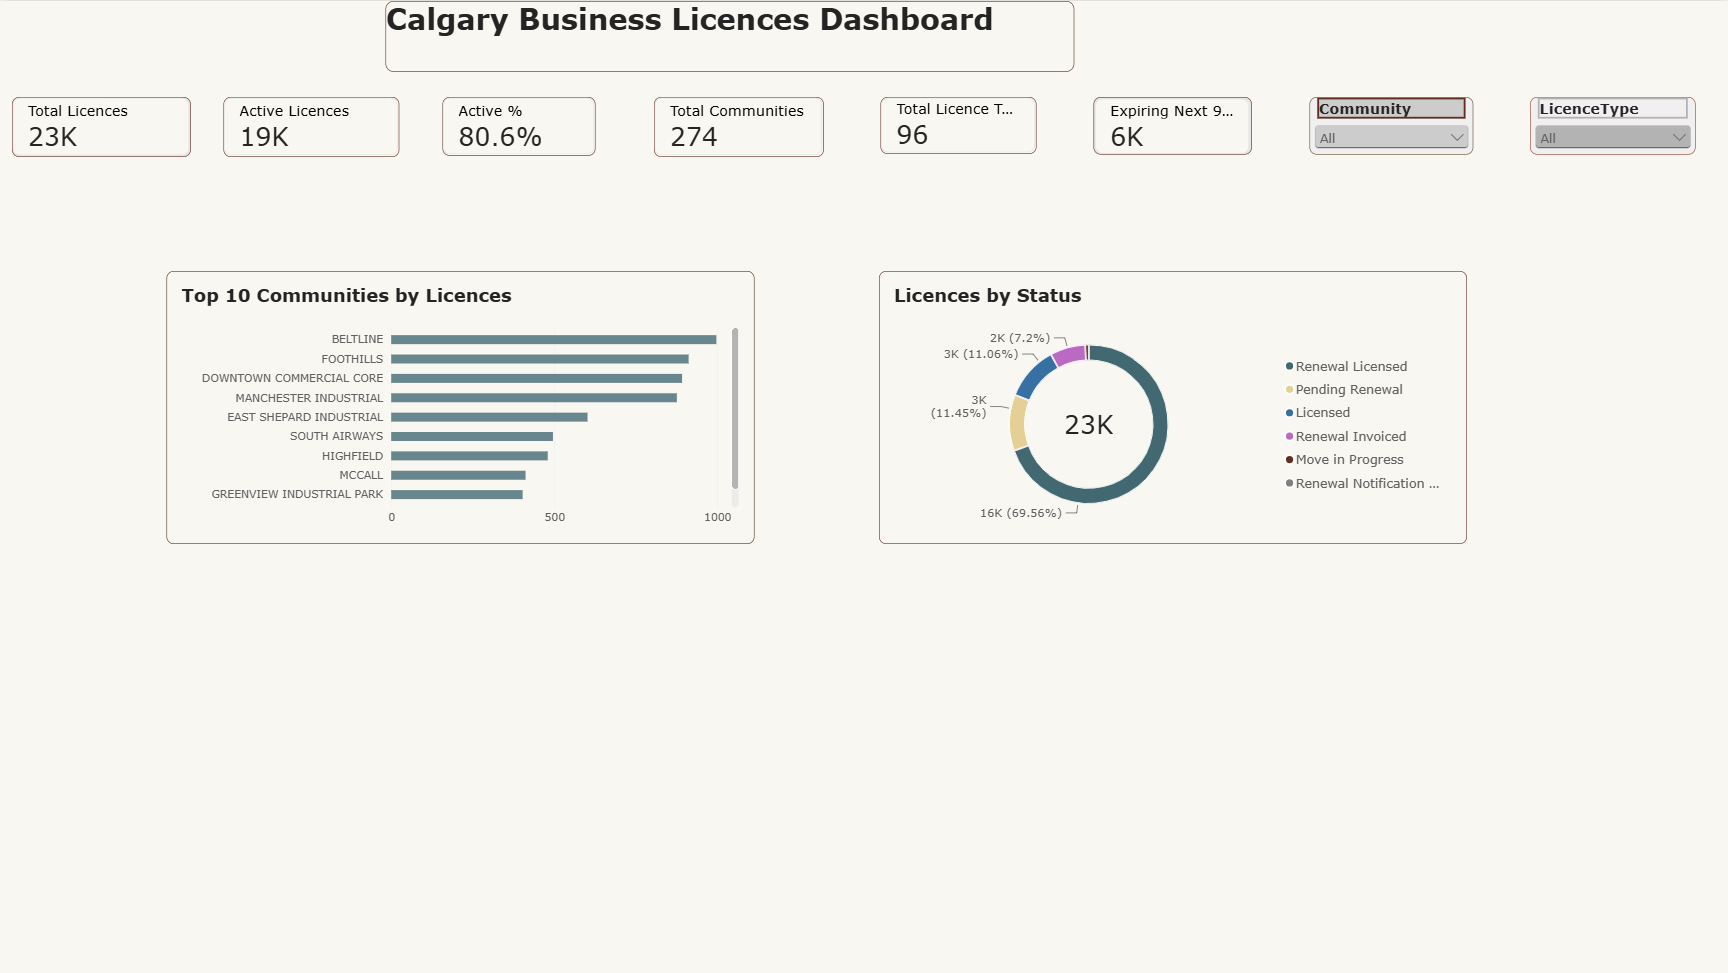

What the dashboard file says about the page in this screenshot:
{"tool":"powerbi","page":{"name":"Overview","canvas":[1920,1080],"ordinal":0},"visuals":[{"type":"cardVisual","fields":{"Data":["_Measures.Total Licences"]},"box":[13.3,106.7,198.3,66.7],"z":0},{"type":"cardVisual","fields":{"Data":["_Measures.Active Licences"]},"box":[248.3,106.7,195,66.7],"z":1000},{"type":"cardVisual","fields":{"Data":["_Measures.Active %"]},"box":[492.3,106.7,170,65],"z":2000},{"type":"cardVisual","fields":{"Data":["_Measures.Total Communities"]},"box":[725.9,106.7,188.3,66.7],"z":3000},{"type":"cardVisual","fields":{"Data":["_Measures.Total Licence Types"]},"box":[977.9,106.7,173.3,63.3],"z":4000},{"type":"cardVisual","fields":{"Data":["_Measures.Expiring Next 90 Days"]},"box":[1214.8,106.7,175.7,64.3],"z":5000},{"type":"clusteredBarChart","title":"Top 10 Communities by Licences","fields":{"Category":["BusinessLicences.COMDISTNM"],"Y":["_Measures.Total Licences"]},"box":[185.7,300,653.3,303.2],"z":6000},{"type":"donutChart","title":"Licences by Status","fields":{"Category":["BusinessLicences.JOBSTATUSDESC"],"Y":["_Measures.Total Licences"]},"box":[976.7,300,653,303],"z":7000},{"type":"slicer","fields":{"Values":["BusinessLicences.COMDISTNM"]},"box":[1454.2,106.7,182.2,64.1],"z":7001},{"type":"slicer","fields":{"Values":["vw_LicenceTypes.LicenceType"]},"box":[1700,106.7,184.2,64.1],"z":7002},{"type":"textbox","box":[428.3,0,765,78.3],"z":7003}]}

Visuals, with their boxes in screenshot pixels (x1, y1, x2, y2), scaled from the page's 1920x1080 canvas onto the 1728x973 screenshot:
cardVisual - _Measures.Total Licences: 12 96 190 156
cardVisual - _Measures.Active Licences: 223 96 399 156
cardVisual - _Measures.Active %: 443 96 596 155
cardVisual - _Measures.Total Communities: 653 96 823 156
cardVisual - _Measures.Total Licence Types: 880 96 1036 153
cardVisual - _Measures.Expiring Next 90 Days: 1093 96 1251 154
"Top 10 Communities by Licences" clusteredBarChart: 167 270 755 543
"Licences by Status" donutChart: 879 270 1467 543
slicer - BusinessLicences.COMDISTNM: 1309 96 1473 154
slicer - vw_LicenceTypes.LicenceType: 1530 96 1696 154
textbox: 385 0 1074 71
